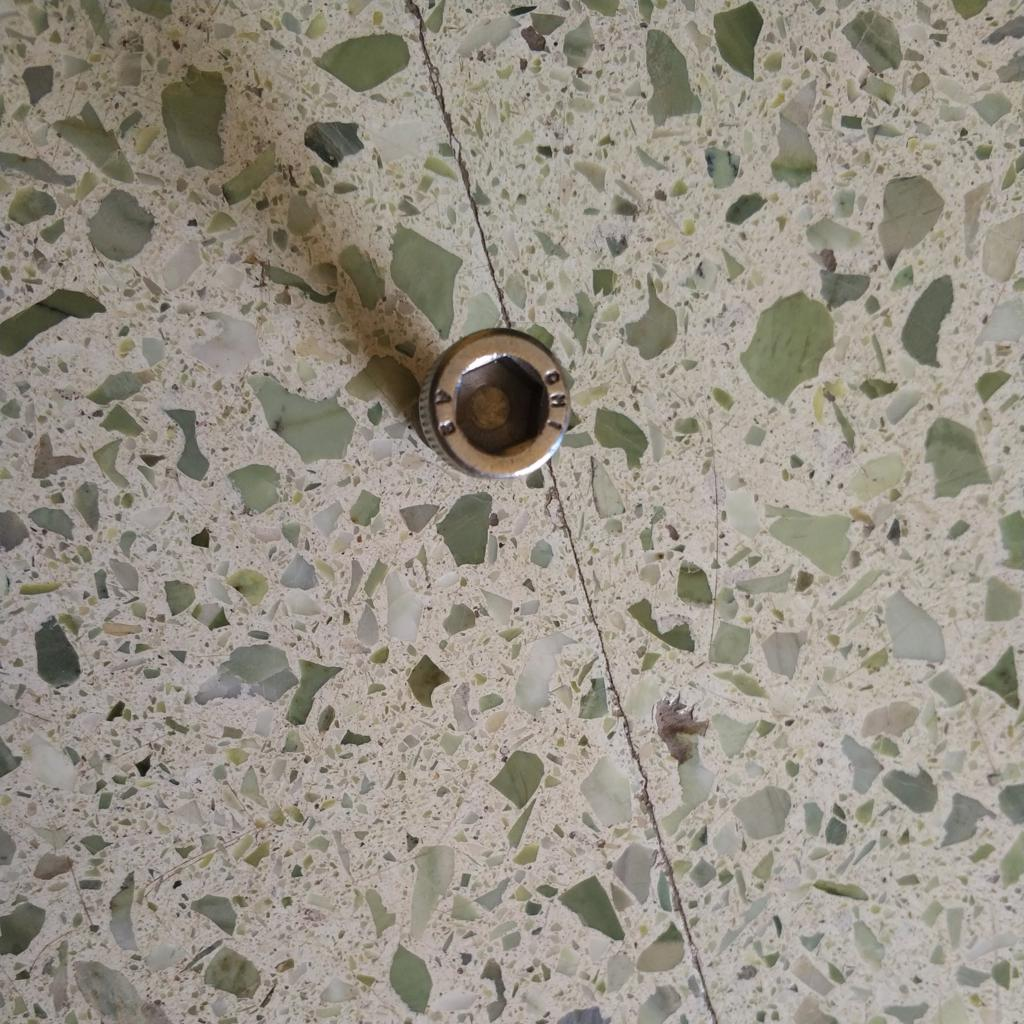screwtype1silver: (406, 321, 578, 485)
